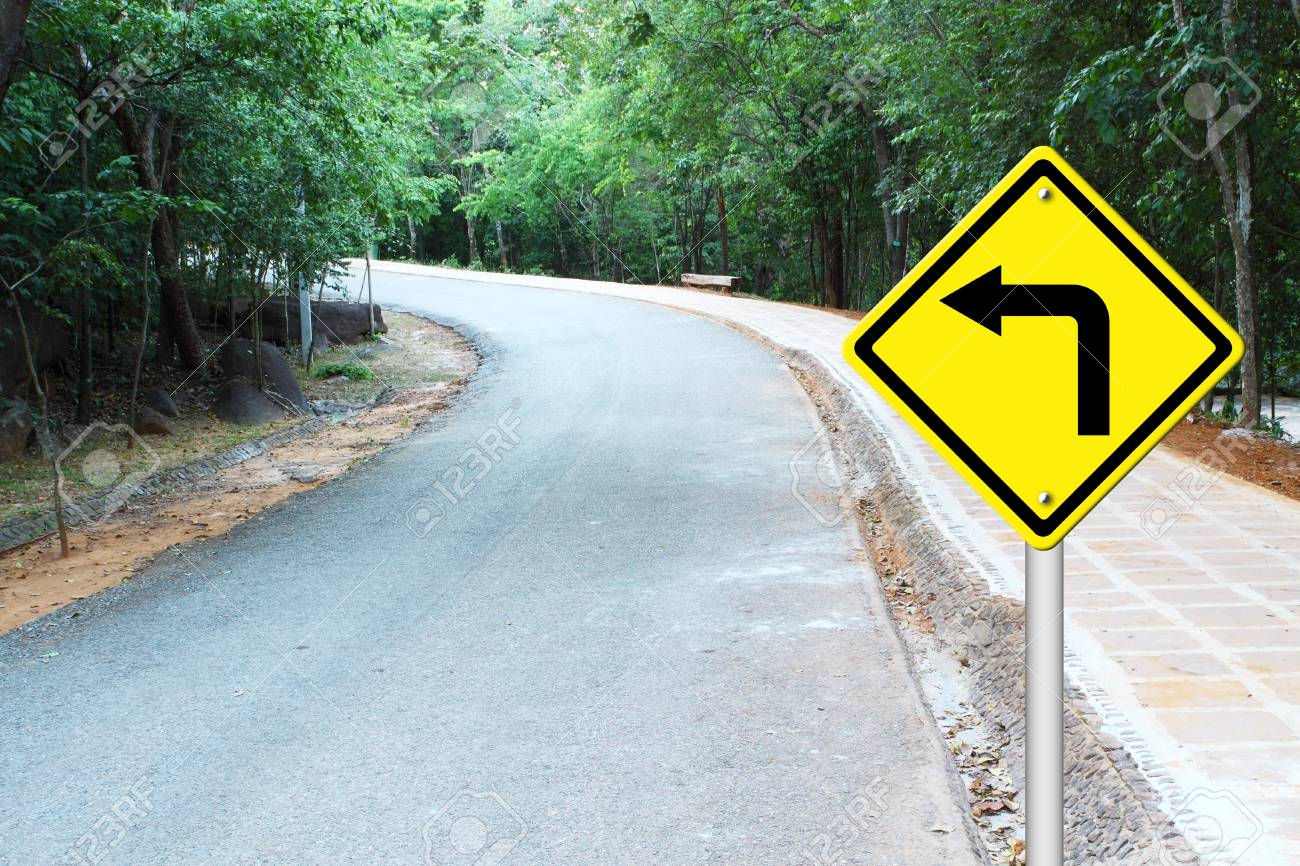left: (838, 146, 1245, 551)
